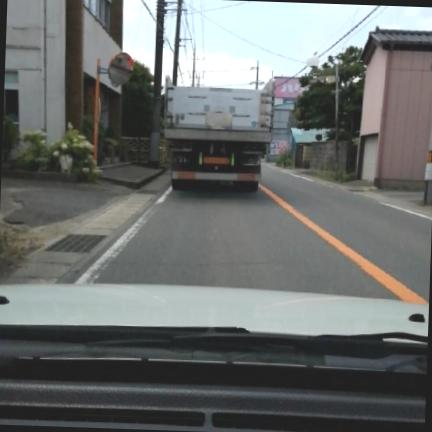Road: (88, 165, 431, 300)
